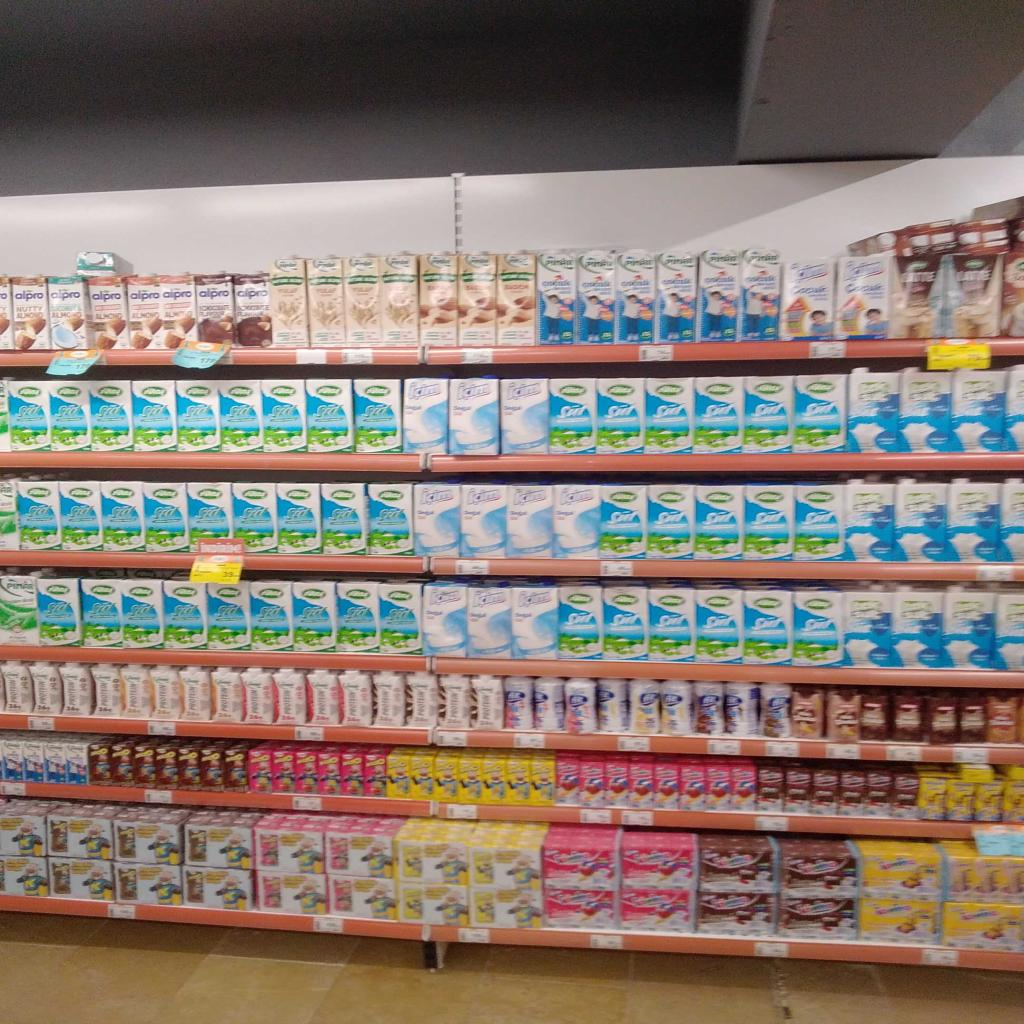price_tag: (190, 539, 245, 584), (928, 341, 991, 370), (172, 340, 230, 369), (47, 349, 103, 376), (922, 948, 958, 966), (976, 565, 1015, 581), (886, 745, 922, 762), (638, 345, 673, 362), (809, 341, 845, 357), (434, 730, 467, 747), (600, 560, 633, 577), (953, 748, 988, 764), (755, 942, 789, 958), (708, 739, 740, 756), (617, 736, 650, 752), (755, 816, 789, 831), (314, 916, 344, 933), (826, 744, 860, 759), (765, 742, 799, 757), (446, 804, 477, 820), (514, 733, 545, 749), (622, 810, 653, 826), (456, 560, 489, 575), (579, 809, 612, 824), (590, 933, 623, 948), (295, 349, 327, 364), (458, 928, 490, 943), (342, 349, 373, 364), (108, 903, 136, 919), (295, 726, 324, 741), (293, 796, 322, 811), (144, 789, 173, 804), (462, 350, 493, 364), (147, 720, 175, 735), (28, 717, 55, 731), (0, 782, 26, 796)
product: (855, 840, 943, 902), (835, 254, 898, 339), (470, 822, 547, 891), (940, 842, 1023, 906), (326, 816, 406, 882), (396, 821, 475, 887), (543, 824, 622, 890), (891, 254, 951, 338), (900, 370, 959, 453), (893, 587, 952, 669), (185, 812, 259, 875), (779, 838, 858, 897), (114, 806, 190, 867), (946, 253, 1001, 337), (896, 480, 952, 562), (848, 368, 902, 453), (699, 834, 777, 892), (621, 831, 697, 890), (952, 369, 1006, 452), (843, 585, 897, 668), (780, 259, 834, 341), (948, 479, 1000, 563), (943, 587, 995, 670), (255, 816, 326, 875), (794, 484, 848, 561), (858, 895, 941, 945), (845, 480, 895, 562), (942, 901, 1023, 951), (794, 374, 845, 453), (741, 484, 793, 561), (47, 804, 116, 861), (739, 249, 781, 342), (449, 377, 499, 455), (743, 376, 793, 454), (792, 590, 843, 666), (694, 377, 743, 454), (777, 893, 857, 940), (656, 252, 697, 343), (698, 250, 739, 341), (743, 589, 792, 665), (459, 484, 508, 559), (497, 252, 536, 346), (575, 250, 614, 344), (500, 378, 548, 454), (548, 378, 596, 454), (645, 377, 693, 453), (615, 250, 654, 343), (695, 587, 742, 664), (646, 484, 694, 559), (695, 485, 743, 560), (696, 892, 776, 937), (353, 380, 402, 453), (596, 378, 643, 454), (269, 259, 309, 348), (403, 377, 449, 454), (458, 253, 496, 346), (343, 256, 382, 346), (553, 483, 599, 559), (319, 483, 368, 554), (307, 379, 354, 453), (600, 485, 647, 559), (469, 882, 543, 929), (544, 883, 618, 930), (307, 258, 346, 347), (419, 253, 457, 344), (507, 484, 553, 559), (620, 887, 695, 933), (466, 583, 511, 659), (381, 254, 418, 346), (648, 587, 694, 661), (231, 482, 278, 554), (558, 584, 603, 659), (538, 253, 575, 344), (261, 380, 307, 453), (414, 483, 460, 556), (142, 483, 189, 553), (398, 881, 469, 927), (47, 377, 91, 451), (423, 583, 467, 657), (513, 586, 557, 660), (604, 586, 648, 660), (327, 874, 396, 921), (175, 380, 220, 452), (368, 484, 413, 556), (257, 869, 327, 915), (132, 380, 177, 451), (17, 479, 62, 550), (154, 275, 197, 349), (379, 581, 422, 655), (183, 865, 252, 911), (277, 484, 322, 554), (292, 581, 337, 651), (87, 276, 130, 349), (220, 380, 263, 453), (8, 380, 51, 451), (250, 580, 293, 651), (37, 577, 81, 646), (48, 856, 114, 902), (115, 862, 182, 907), (90, 381, 133, 451), (101, 482, 144, 552), (186, 482, 233, 546), (58, 482, 102, 550), (120, 580, 164, 648), (336, 581, 378, 652), (164, 580, 207, 649), (47, 277, 88, 349), (12, 277, 51, 352), (208, 582, 251, 650), (195, 272, 235, 344), (233, 272, 271, 347), (0, 576, 40, 646), (81, 579, 122, 647), (0, 801, 47, 858), (128, 275, 162, 349), (993, 591, 1023, 671), (0, 855, 50, 898), (272, 668, 308, 725), (1000, 249, 1023, 337), (999, 479, 1023, 563), (725, 681, 760, 736), (242, 667, 275, 724), (28, 661, 64, 713), (58, 663, 93, 716), (339, 670, 372, 726), (1002, 364, 1023, 452), (501, 676, 535, 730), (661, 681, 695, 735), (565, 677, 597, 734), (120, 664, 153, 719), (211, 668, 244, 723), (439, 674, 472, 729), (471, 675, 504, 730), (626, 679, 659, 734), (407, 672, 438, 730), (0, 661, 34, 713), (180, 666, 212, 721), (150, 665, 181, 720), (308, 670, 339, 725), (374, 672, 405, 727), (91, 664, 123, 717), (597, 678, 628, 732), (828, 690, 860, 742), (925, 695, 958, 744), (792, 687, 823, 739), (694, 681, 724, 734), (762, 683, 791, 737), (534, 678, 564, 730), (338, 745, 368, 796), (986, 694, 1017, 743), (313, 744, 342, 794), (704, 759, 733, 809), (892, 694, 922, 742), (387, 747, 415, 798), (434, 750, 460, 803), (861, 691, 888, 741), (294, 744, 320, 794), (364, 748, 390, 797), (959, 696, 986, 743), (0, 481, 18, 551), (64, 740, 91, 784), (248, 744, 272, 792), (88, 738, 113, 784), (527, 760, 552, 806), (0, 734, 24, 781), (225, 744, 249, 791), (271, 744, 294, 793), (154, 743, 179, 788), (200, 744, 224, 790), (554, 760, 578, 806), (680, 766, 704, 812), (732, 768, 756, 814), (760, 768, 784, 814), (784, 770, 808, 816), (810, 768, 834, 814), (836, 769, 860, 815), (862, 773, 886, 819), (894, 777, 918, 823), (918, 778, 942, 824), (948, 777, 972, 823), (975, 780, 999, 826), (1000, 778, 1024, 824), (483, 759, 506, 805), (504, 759, 527, 805), (579, 762, 602, 808), (110, 741, 134, 785), (0, 275, 14, 350), (133, 741, 155, 787), (179, 744, 202, 788), (414, 754, 436, 800), (460, 760, 483, 804), (604, 762, 626, 808), (628, 763, 650, 809), (652, 764, 674, 810), (42, 741, 66, 783), (23, 740, 45, 782), (0, 378, 11, 452), (68, 403, 68, 404), (426, 702, 427, 702)
